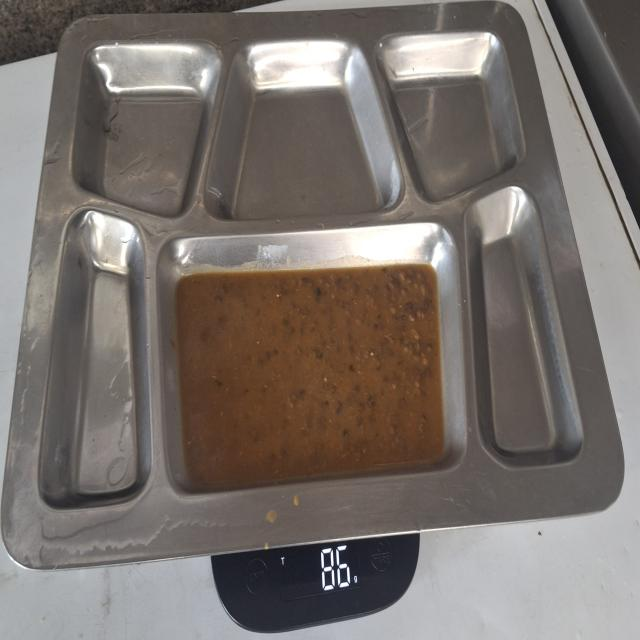Dal: (170, 255, 452, 493)
